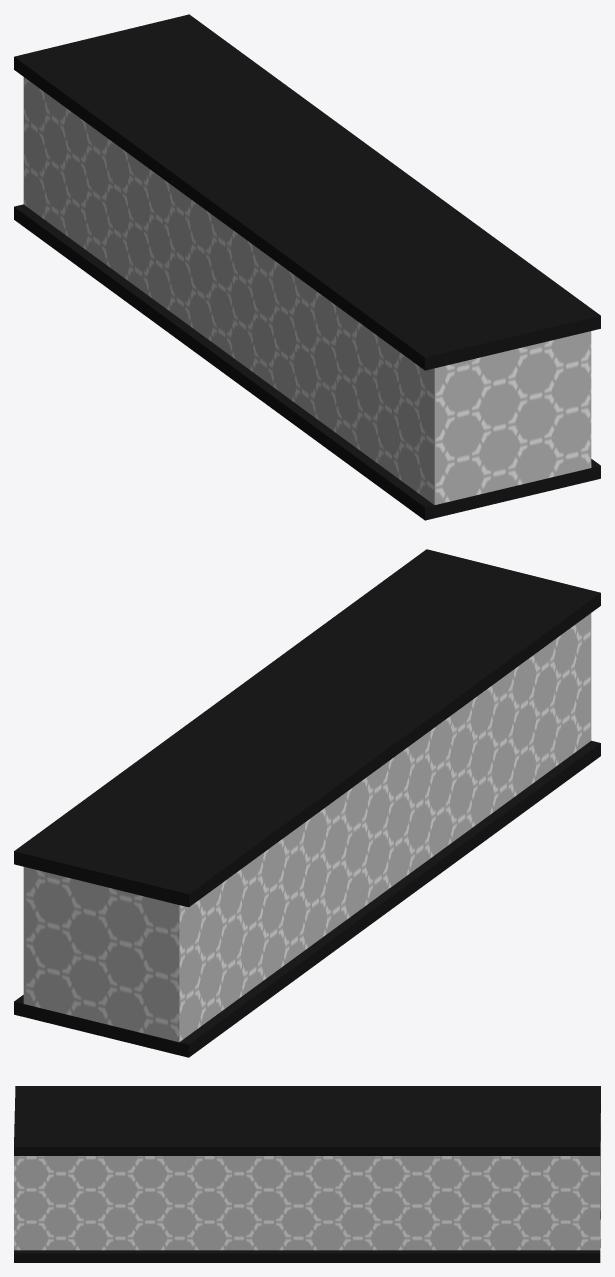
Rendered from wall_Base_New.fbx.
3 renders of one model, top to bottom at view 1: azimuth 30°, elevation 25°; view 2: azimuth 150°, elevation 25°; view 3: azimuth 270°, elevation 25°, orthographic. The views are drawn at different scales.
Parts seen in each view (by area): view 1: wall_Base; view 2: wall_Base; view 3: wall_Base.
Boxes of the visible parts, x1,y1,x2,y2 form: wall_Base: (14, 14, 600, 520); wall_Base: (14, 549, 600, 1057); wall_Base: (14, 1086, 600, 1262).
Bounding box in the file's own units: 91.38 × 81.37 × 373.
